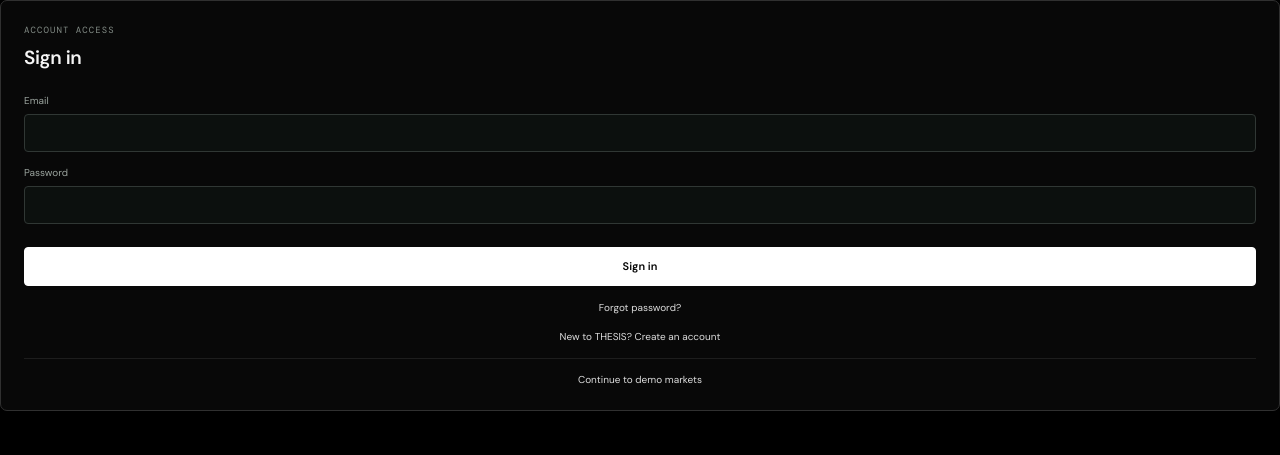
Scenario: AuthForm › restores the form after a network exception
In the field labelled "Email": (640, 132) [24,114,1256,152], type "trader@example.com"
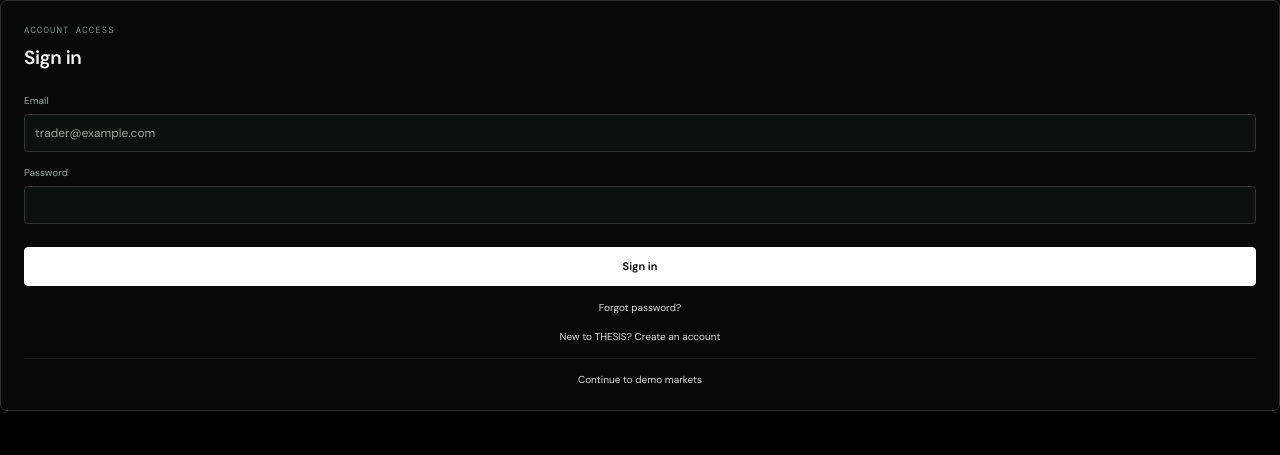
In the password field labelled "Password": (640, 204) [24,186,1256,224], type "correct-horse-42"
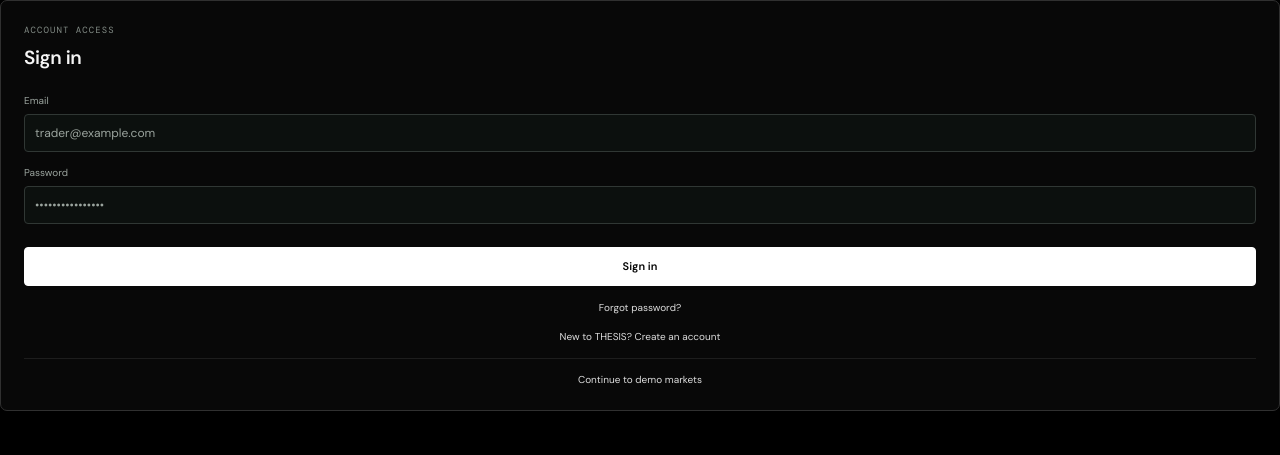
Submit the form labelled "Email", box [24,92,1256,286]
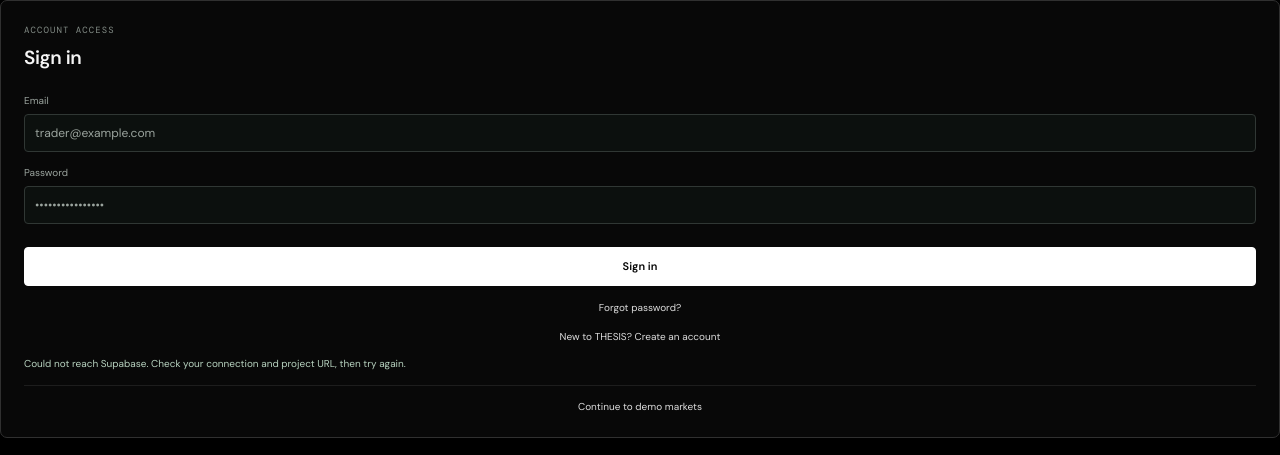
Expected: the button "Sign in" is enabled, [24,246,1256,286]
Result: the text "Could not reach Supabase" is shown at [24,356,406,370]
